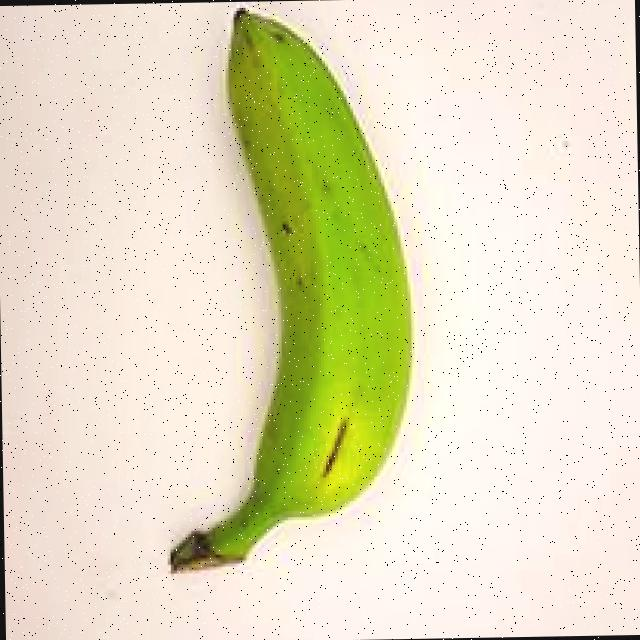Unripe: (130, 0, 472, 598)
